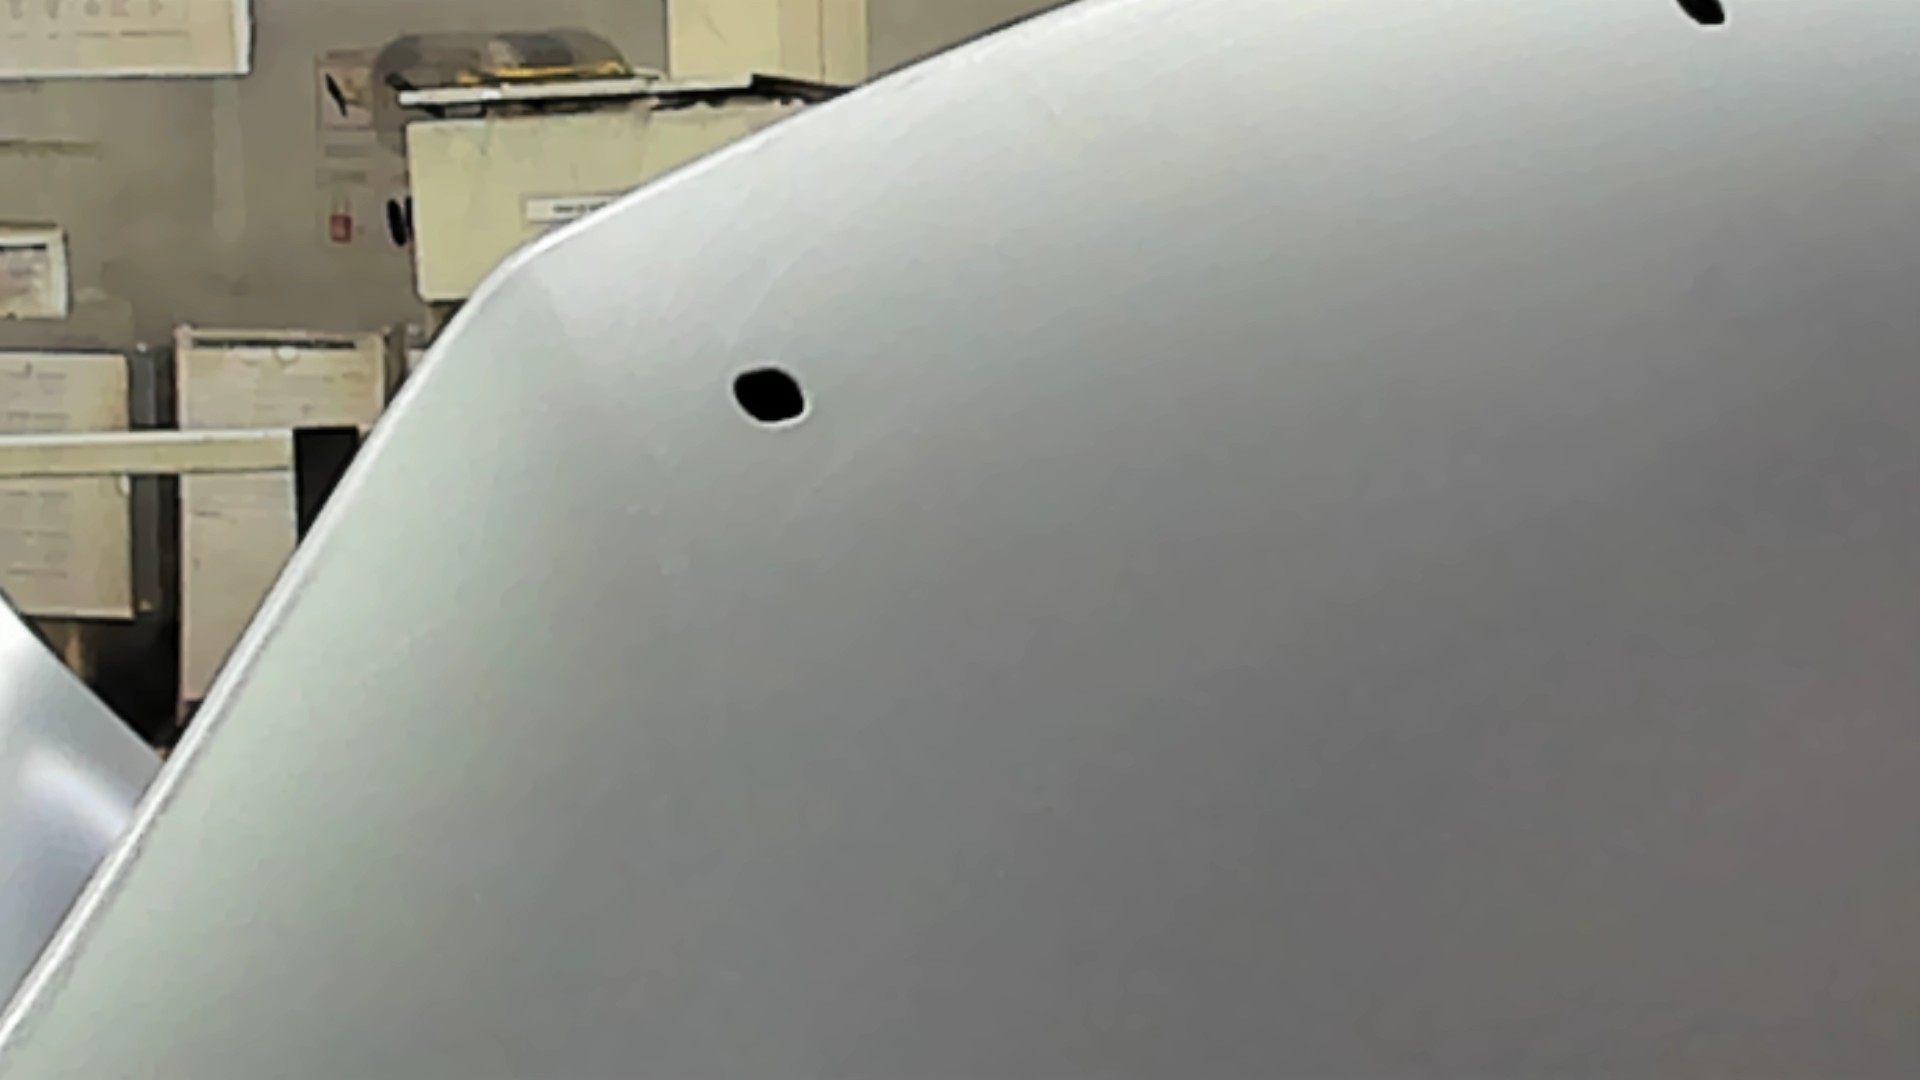amorfo: (727, 360, 815, 433), (1668, 1, 1735, 36)
capo: (884, 135, 1920, 1080)
